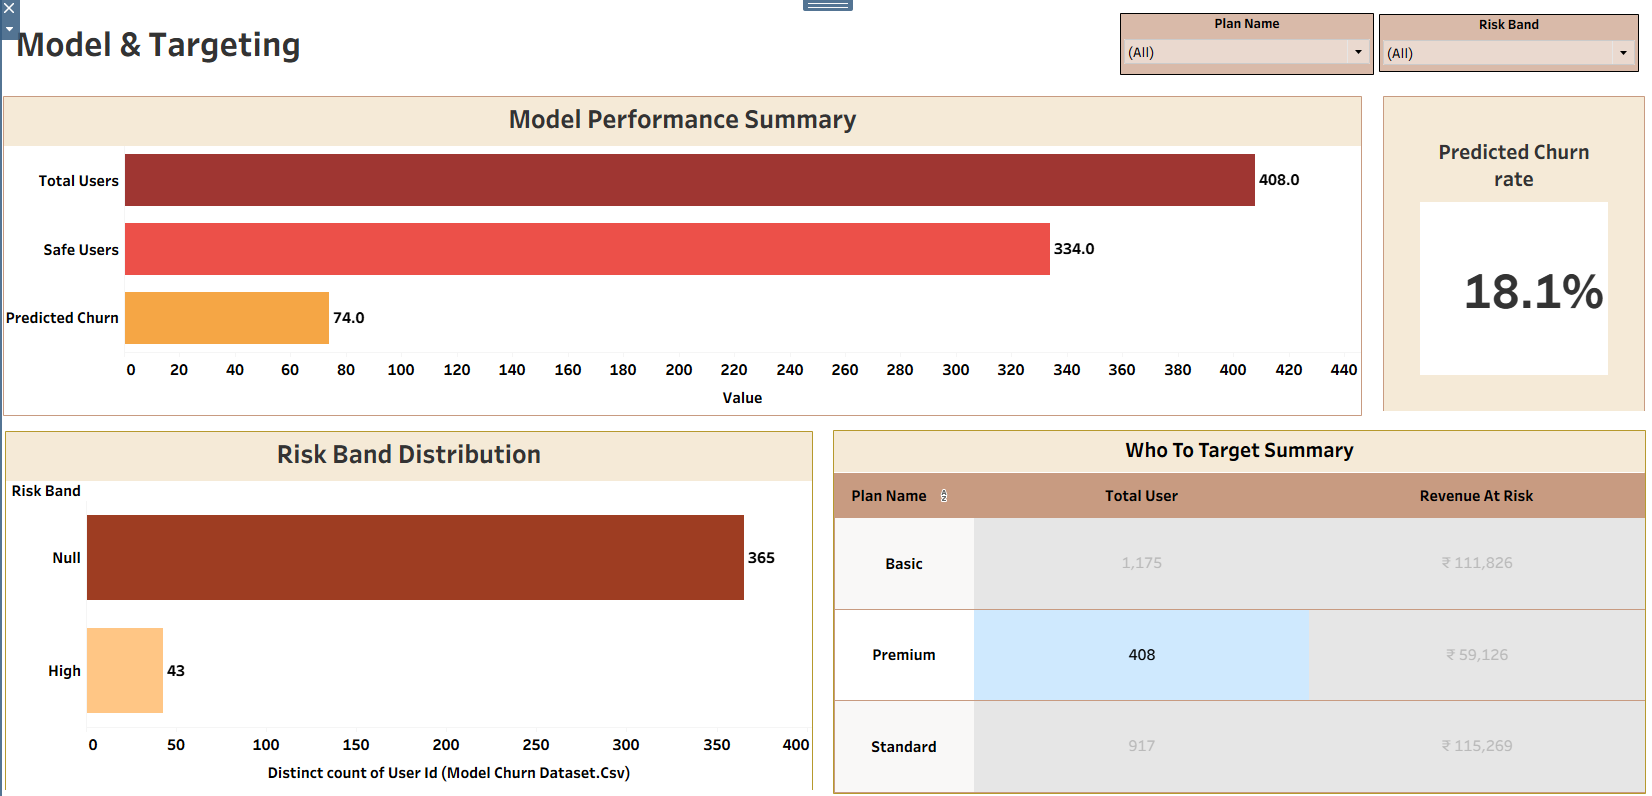

The dashboard page shown, as its layout file describes it:
{"tool":"tableau","page":{"name":"Model & Targeting","canvas":[1000,1000],"units":"permille","ordinal":3},"visuals":[{"type":"title","box":[4.8,10,990.3,92.6]},{"type":"filter","title":"Who To Target Summary","param":"[federated.1hm0nyg04ymwhy1c56p9b1mbue5k].[none:plan_name:nk]","box":[675.6,18.8,153.3,77.8]},{"type":"filter","title":"Who To Target Summary","param":"[federated.1hm0nyg04ymwhy1c56p9b1mbue5k].[none:risk_band:nk]","box":[832,20.1,157,72.4]},{"type":"worksheet","title":"Model Performance Summary","mark":"Automatic","box":[1.8,122,820.4,399.5]},{"type":"worksheet","title":"Predicted Churn rate","mark":"Automatic","box":[834.5,122,158.2,394.1]},{"type":"worksheet","title":"Who To Target Summary","mark":"Automatic","rows":["plan_name"],"box":[502.8,538.9,490.5,454.4]},{"type":"worksheet","title":"Risk Band Distribution","mark":"Automatic","rows":["risk_band"],"cols":["user_id (model_churn_dataset.csv)"],"box":[3,540.2,487.6,449.1]}]}

Visuals, with their boxes on the dashboard's canvas, which has no fixed pixel size, in thousandths of its width and height (x1, y1, x2, y2). These are canvas units, not pixel positions in the 1652x796 screenshot, which may show the page scaled, cropped or inside an application window:
title: (left=5, top=10, right=995, bottom=103)
"Who To Target Summary" filter: (left=676, top=19, right=829, bottom=97)
"Who To Target Summary" filter: (left=832, top=20, right=989, bottom=92)
"Model Performance Summary" worksheet: (left=2, top=122, right=822, bottom=522)
"Predicted Churn rate" worksheet: (left=834, top=122, right=993, bottom=516)
"Who To Target Summary" worksheet: (left=503, top=539, right=993, bottom=993)
"Risk Band Distribution" worksheet: (left=3, top=540, right=491, bottom=989)
